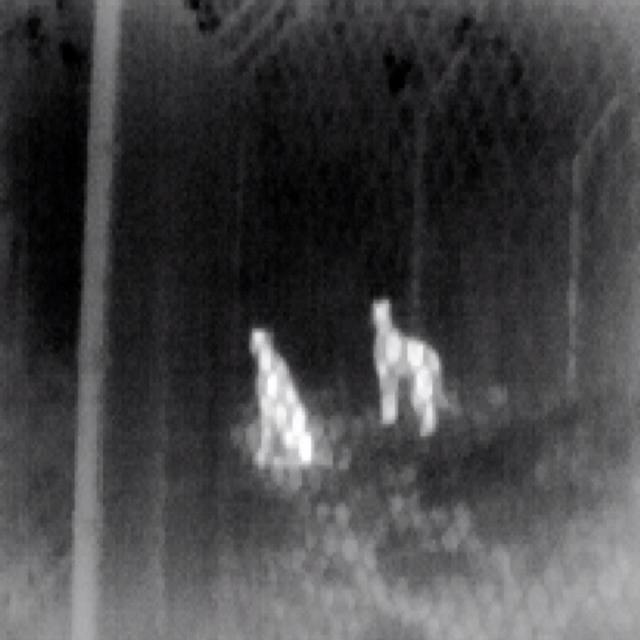cheetah: (373, 300, 447, 436), (251, 328, 313, 464)
